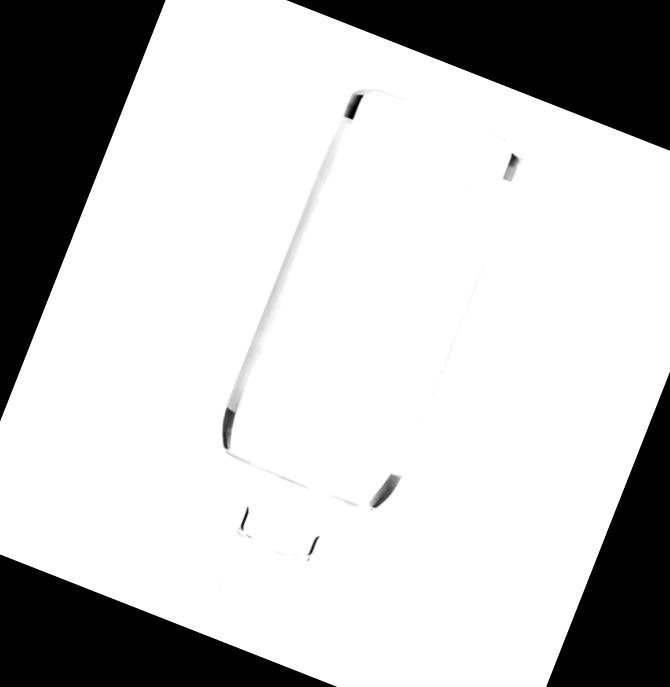cosmetic: (160, 83, 532, 649)
